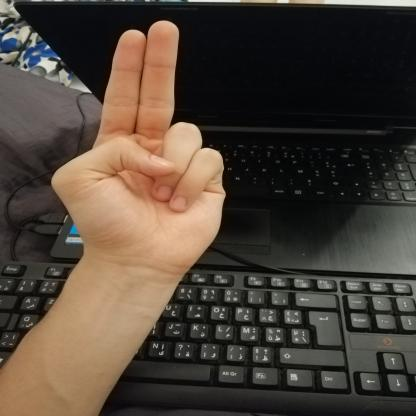TA: (35, 11, 244, 284)
